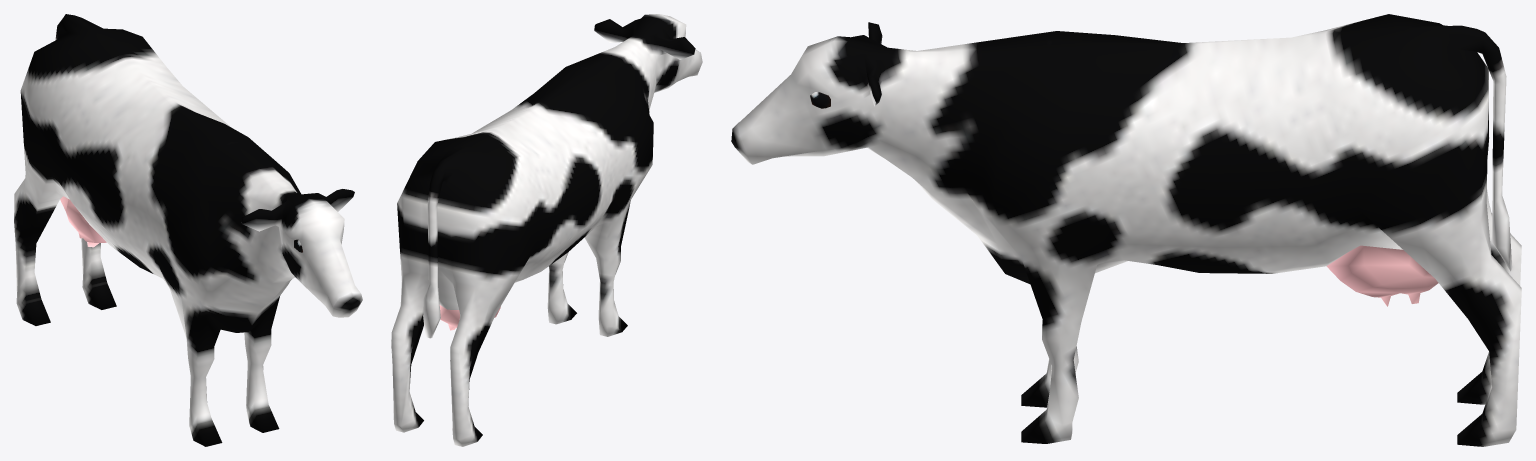
File: Cow02.glb
3 views of the same model, side by side, from view 1: azimuth 30°, elevation 25°; view 2: azimuth 150°, elevation 25°; view 3: azimuth 270°, elevation 25° (orthographic). The views are drawn at different scales.
Parts seen in each view (by area): view 1: Cow02; view 2: Cow02; view 3: Cow02.
Boxes of the visible parts, left/top/right/bottom form: Cow02: left=14, top=14, right=362, bottom=446; Cow02: left=391, top=14, right=702, bottom=446; Cow02: left=731, top=14, right=1521, bottom=446.
Size of what is drawn, in the model's own units: 0.6671 by 1.48 by 2.7.
Materials: 1 (1 with a texture image).
